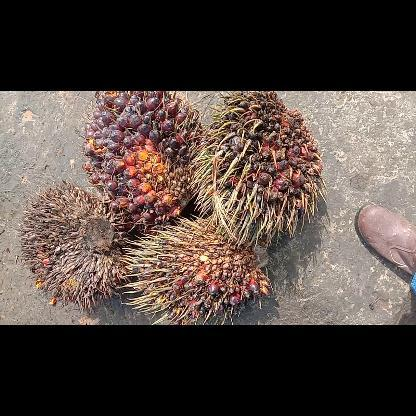Kurang masak: (198, 91, 324, 239)
TBS abnormal: (122, 214, 270, 324), (18, 177, 122, 308)
Terlalu masak: (82, 91, 206, 230)
